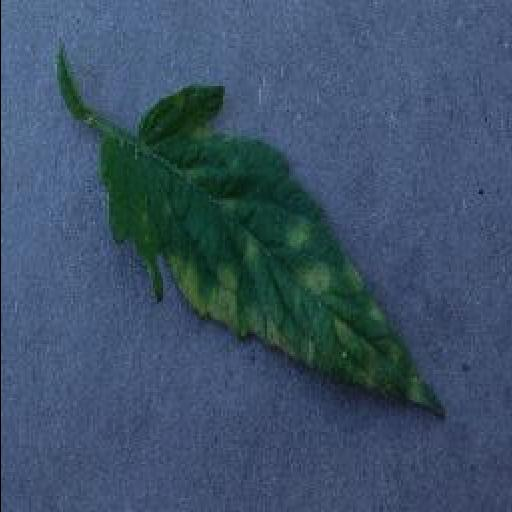disease_tomato: (98, 86, 446, 418)
